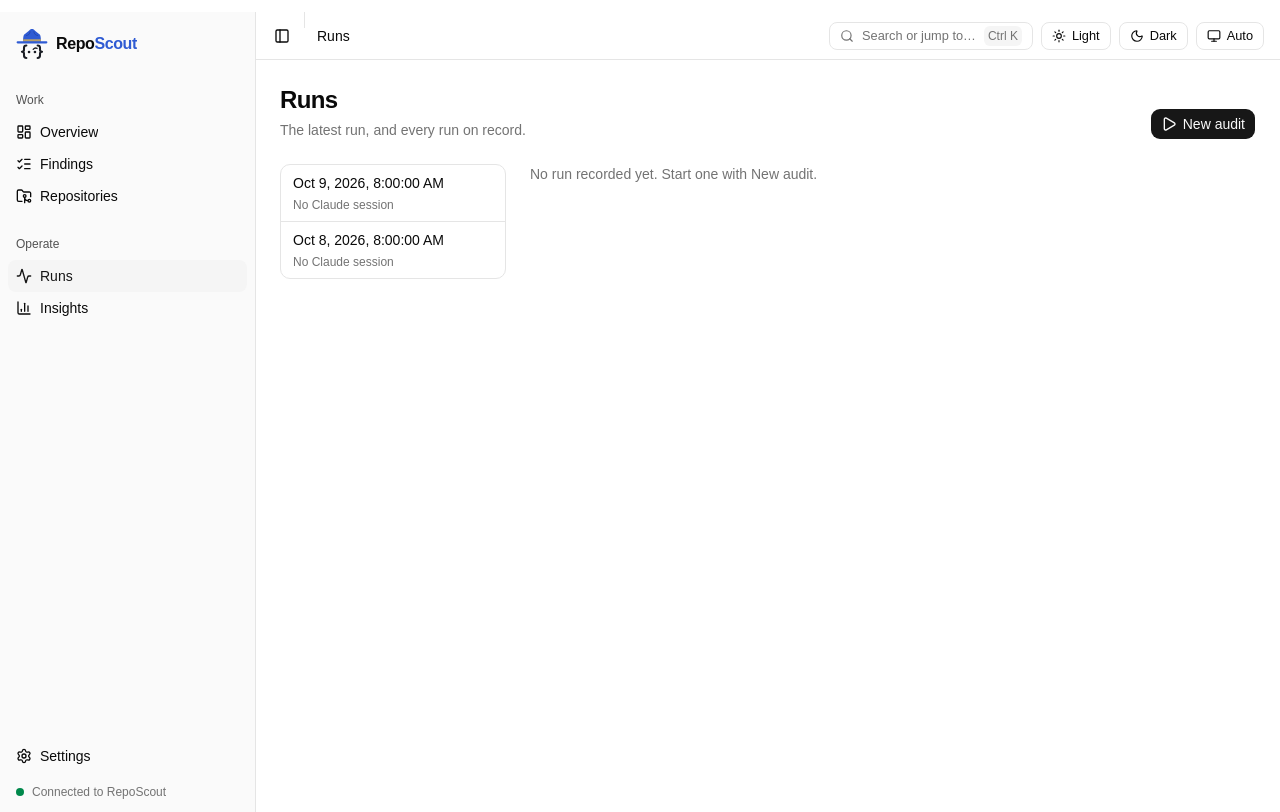
the Runs page › replays a past run picked from the list and names it in the URL
Click the link "Oct 8, 2026, 8:00:00 AM No Claude session" at (368, 250), box [293, 232, 444, 269]
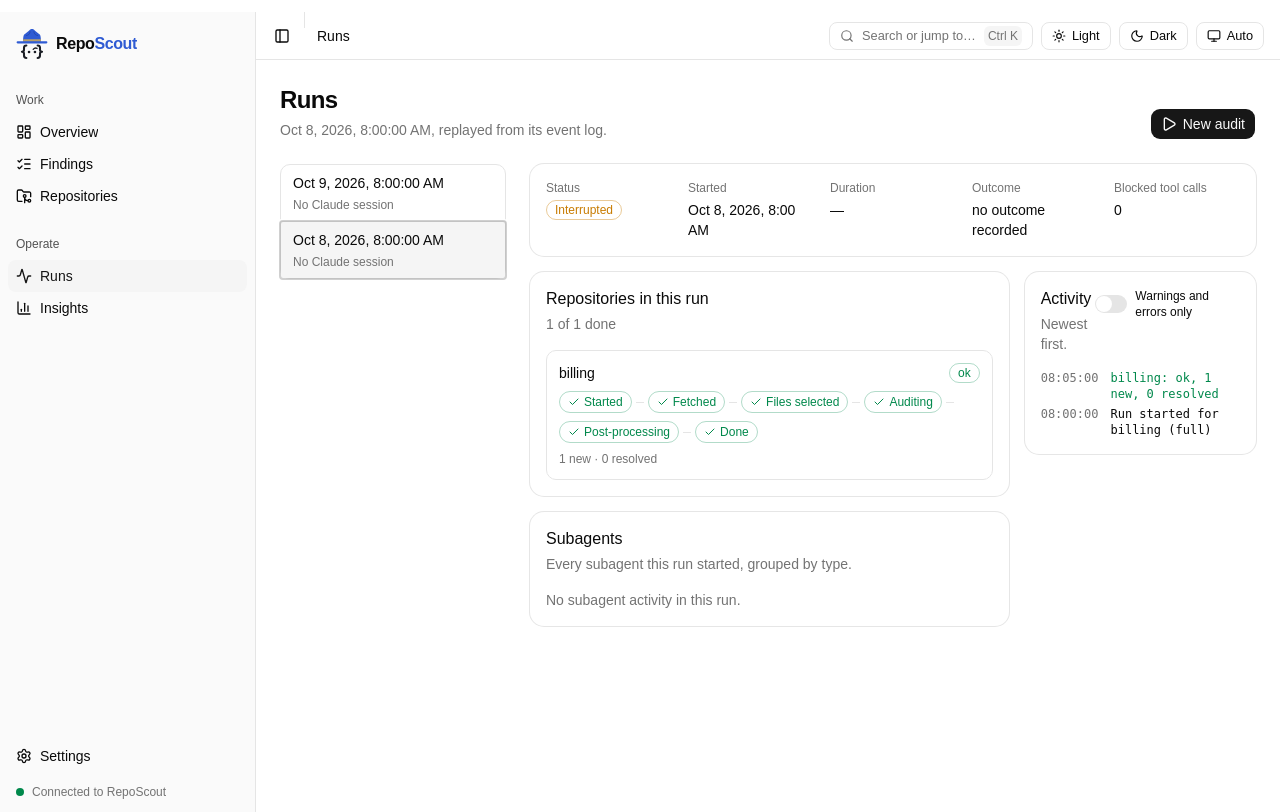
Check: the text "billing" is shown, box [559, 363, 595, 383]
